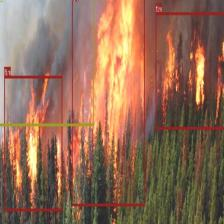fire: (72, 0, 144, 205), (155, 12, 224, 129), (4, 75, 62, 211)
smoke: (0, 0, 94, 125)
